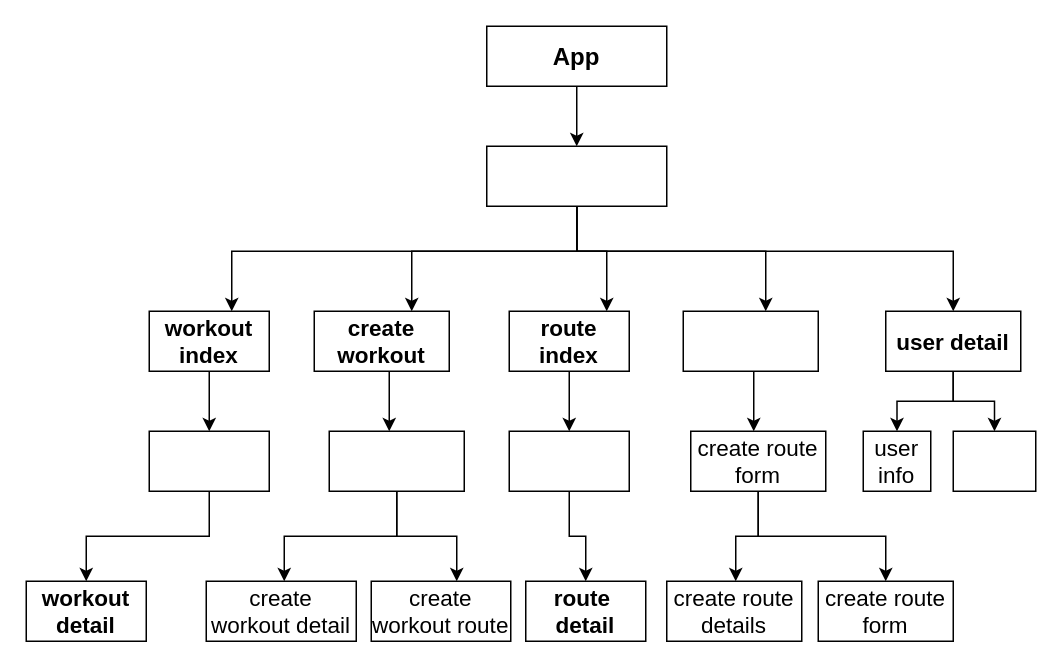
Image size: 1062x668. Some labels were removed from this diagram. The centre of each missing label's shape, as x and y in pixels:
"create route" goes at (x=750, y=340).
"create workout form" goes at (x=396, y=460).
"Dashboard" goes at (x=576, y=175).
"friend info" goes at (x=994, y=460).
"route index item" goes at (x=568, y=460).
"workout index item" goes at (x=208, y=460).
